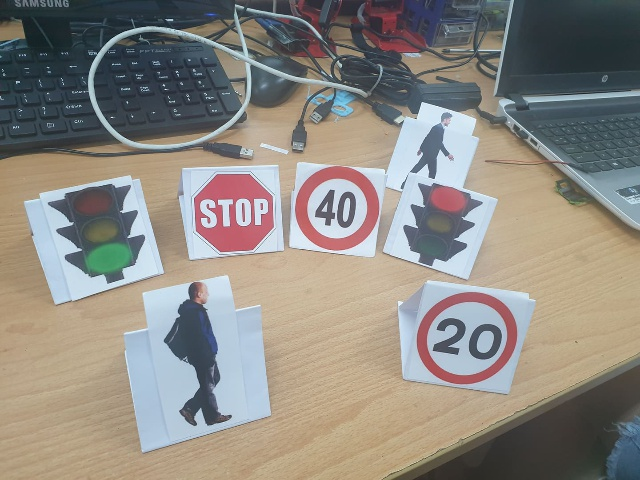Green: (45, 189, 147, 287)
Limit 20: (414, 290, 519, 386)
Limit 40: (298, 165, 379, 253)
Person: (165, 283, 235, 426), (405, 110, 460, 185)
Red: (403, 184, 476, 269)
Stop: (192, 171, 281, 252)
